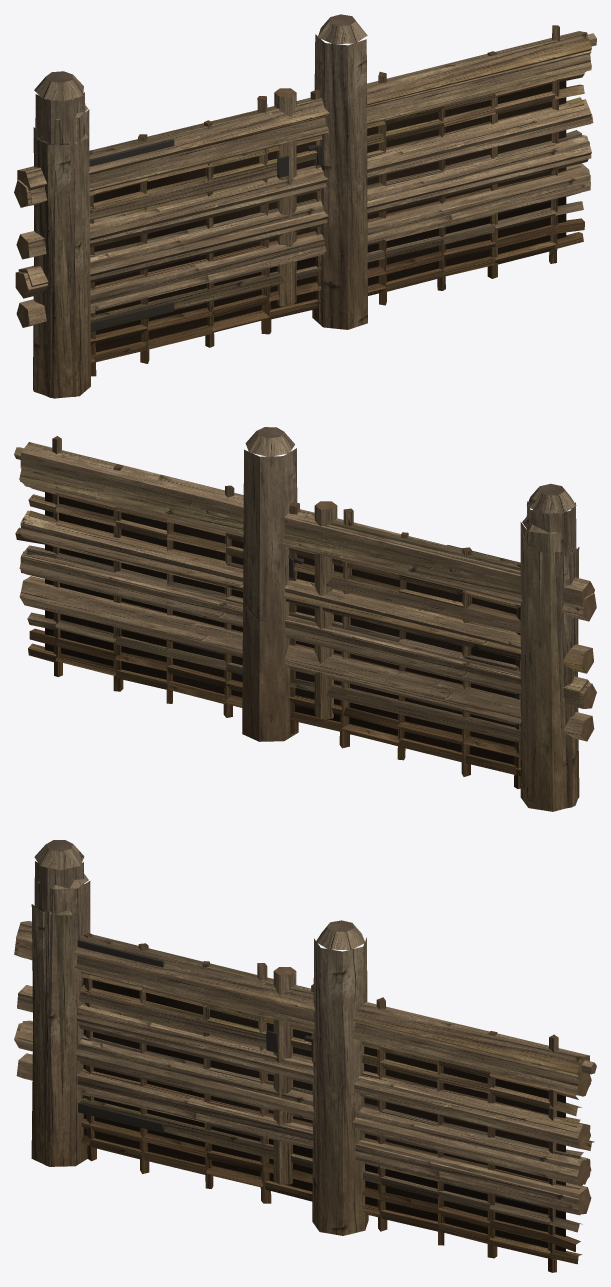
Rendered from village-fence-1-lite-v3b.glb.
The picture shows the model from 3 angles, top to bottom: view 1: azimuth 30°, elevation 25°; view 2: azimuth 150°, elevation 25°; view 3: azimuth 330°, elevation 25°; orthographic projection.
Visible parts, largest first — view 1: FenceWattle, FenceSegment3RailStart, GatePosts, FenceCorner, FenceSegment3Rail, GateLeaf, FenceSegment, FenceSegmentStart, FenceEndPost; view 2: FenceWattle, FenceSegment3RailStart, GatePosts, FenceCorner, FenceSegment3Rail, FenceSegment, GateLeaf, FenceSegmentStart, FenceEndPost; view 3: FenceWattle, FenceSegment3RailStart, GatePosts, FenceCorner, FenceSegment3Rail, GateLeaf, FenceSegment, FenceSegmentStart, FenceEndPost.
Part boxes in pixels (x1=…): FenceWattle: x1=89, y1=25, x2=596, y2=376; FenceSegment3RailStart: x1=16, y1=31, x2=591, y2=327; GatePosts: x1=33, y1=14, x2=367, y2=397; FenceCorner: x1=33, y1=62, x2=591, y2=398; FenceSegment3Rail: x1=53, y1=50, x2=591, y2=310; GateLeaf: x1=89, y1=88, x2=296, y2=331; FenceSegment: x1=89, y1=53, x2=591, y2=280; FenceSegmentStart: x1=14, y1=59, x2=591, y2=323; FenceEndPost: x1=18, y1=137, x2=71, y2=298; FenceWattle: x1=14, y1=436, x2=520, y2=788; FenceSegment3RailStart: x1=20, y1=442, x2=594, y2=741; GatePosts: x1=242, y1=427, x2=579, y2=810; FenceCorner: x1=20, y1=468, x2=579, y2=811; FenceSegment3Rail: x1=19, y1=466, x2=521, y2=724; FenceSegment: x1=19, y1=473, x2=521, y2=693; GateLeaf: x1=314, y1=501, x2=520, y2=742; FenceSegmentStart: x1=19, y1=470, x2=596, y2=708; FenceEndPost: x1=562, y1=547, x2=589, y2=704; FenceWattle: x1=80, y1=933, x2=596, y2=1272; FenceSegment3RailStart: x1=16, y1=921, x2=590, y2=1212; GatePosts: x1=31, y1=840, x2=368, y2=1235; FenceCorner: x1=31, y1=867, x2=590, y2=1186; FenceSegment3Rail: x1=35, y1=906, x2=591, y2=1214; GateLeaf: x1=77, y1=933, x2=296, y2=1184; FenceSegment: x1=76, y1=955, x2=591, y2=1184; FenceSegmentStart: x1=14, y1=910, x2=591, y2=1184; FenceEndPost: x1=17, y1=904, x2=46, y2=1056.
Bounding box in the file's own units: 3.06 × 1.58 × 0.2737.
Materials: 1 (1 with a texture image).
